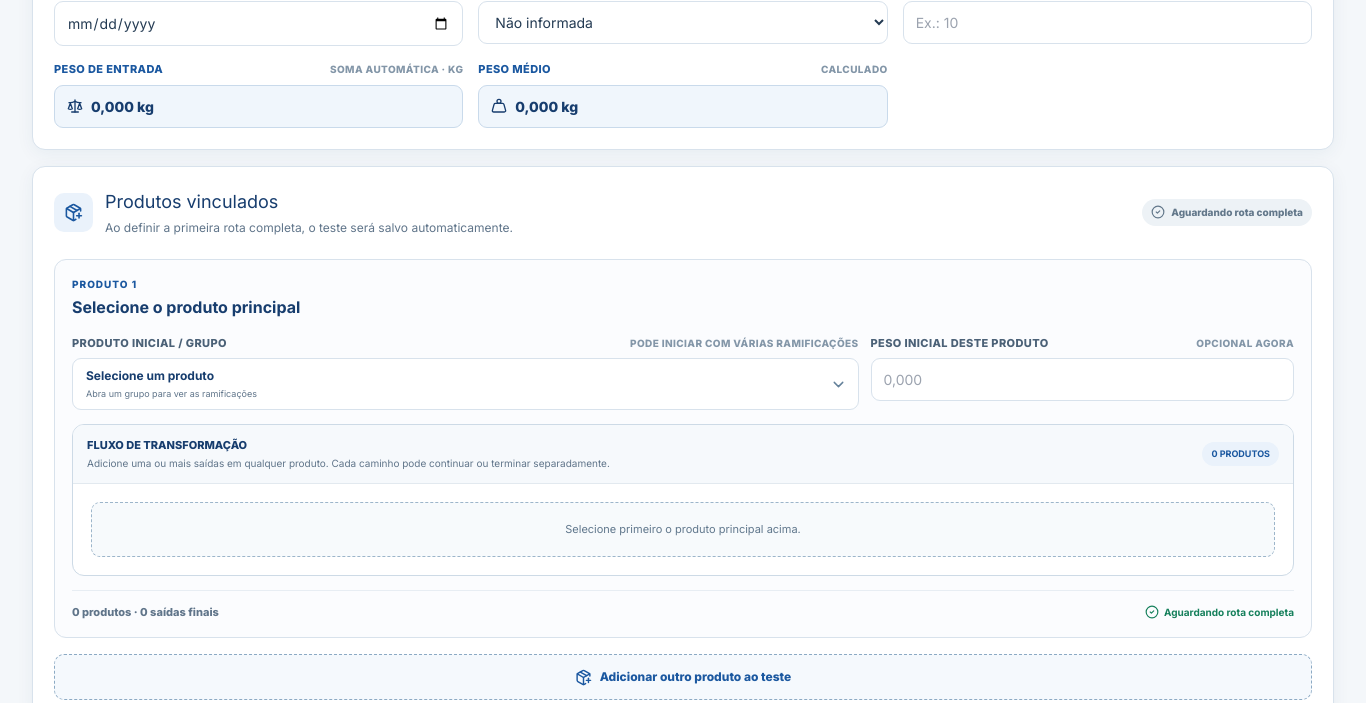
it: módulo Teste de Rendimento integrado ao backend › permite iniciar o fluxo com todas as ramificações irmãs do grupo
(page scrolled)
Click the button with aria-label "Produto principal 1" at (150, 376), box x1=72 y1=358 x2=858 y2=410
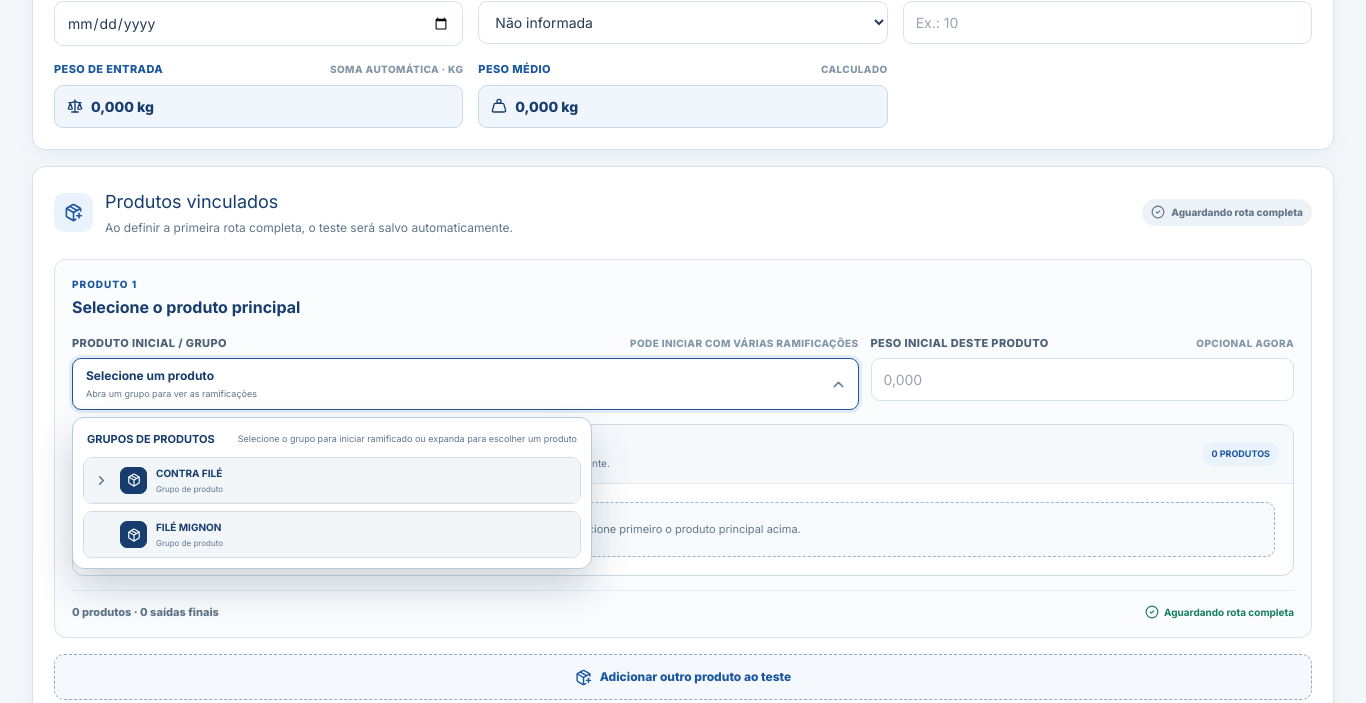
Click the button "CONTRA FILÉ Grupo de produto" at (189, 473), box x1=118 y1=458 x2=580 y2=502
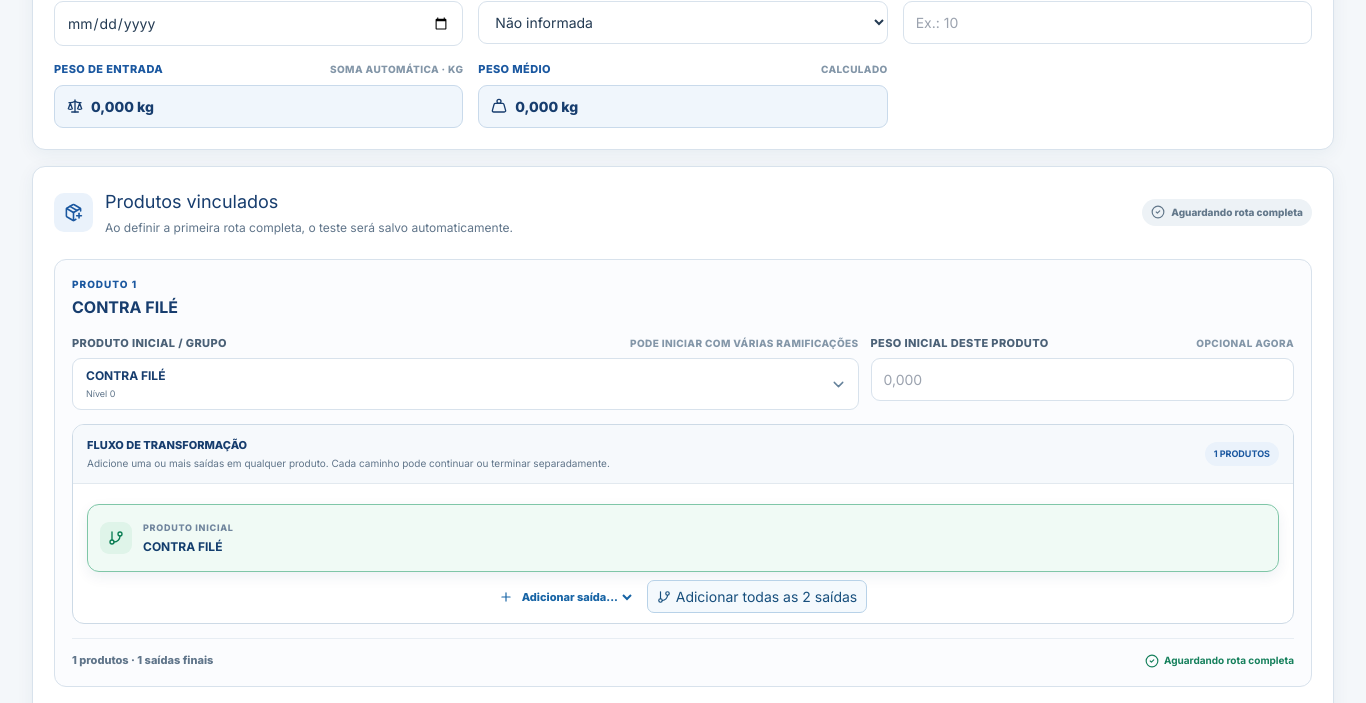
Click the button "Adicionar todas as 2 saídas" at (757, 597), box x1=647 y1=580 x2=867 y2=613
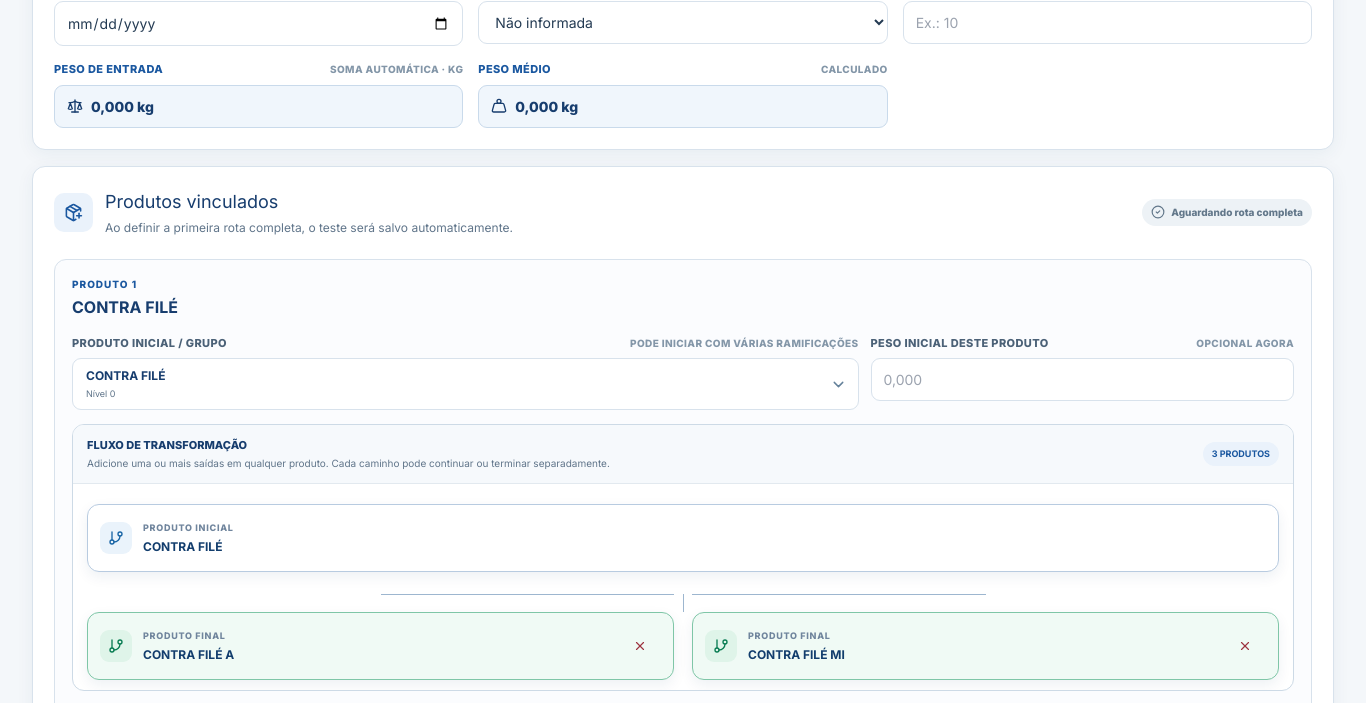
Now the text "Produto final" is shown 2 times, box x1=143 y1=630 x2=226 y2=641; x1=748 y1=630 x2=831 y2=641
